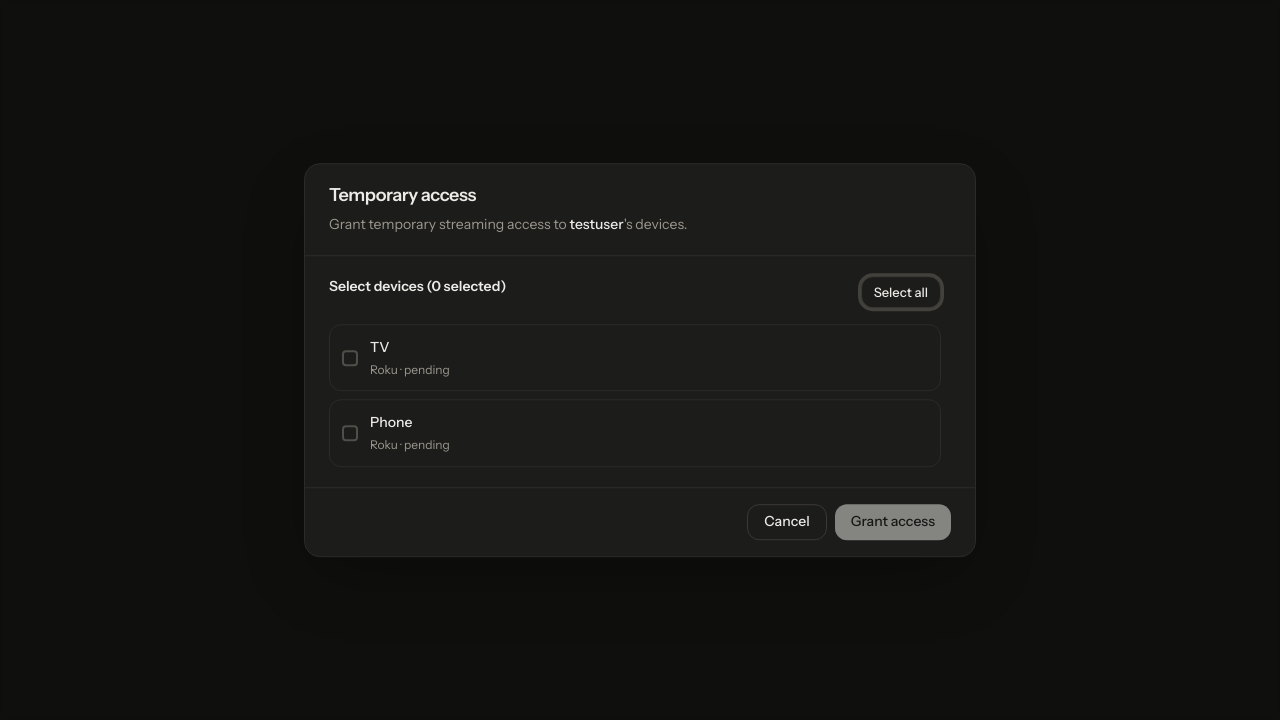
Test: TemporaryAccessModal › device selection › selects and deselects everything
The image size is (1280, 720).
Click the button "Select all": (901, 292) x1=861 y1=276 x2=941 y2=308
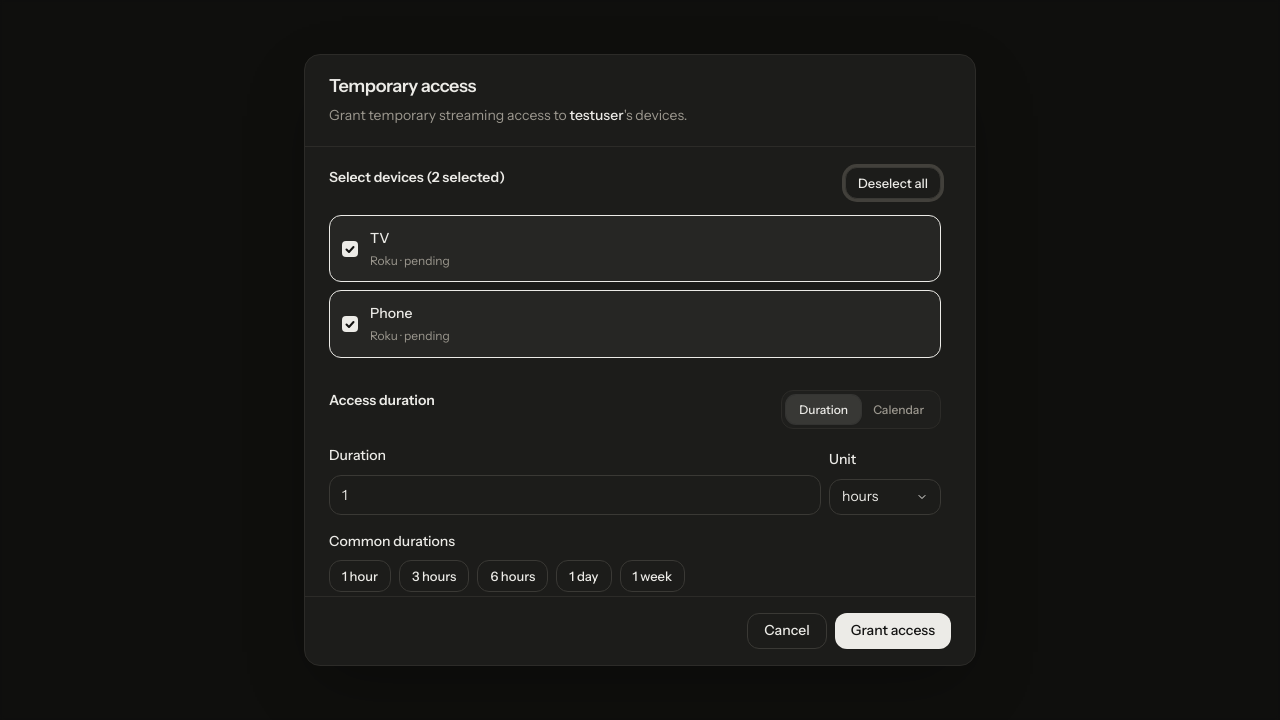
expect the heading "Select devices (2 selected)" is shown: met, box x1=329 y1=167 x2=505 y2=189
Click the button "Deselect all": (893, 183) x1=845 y1=167 x2=941 y2=199
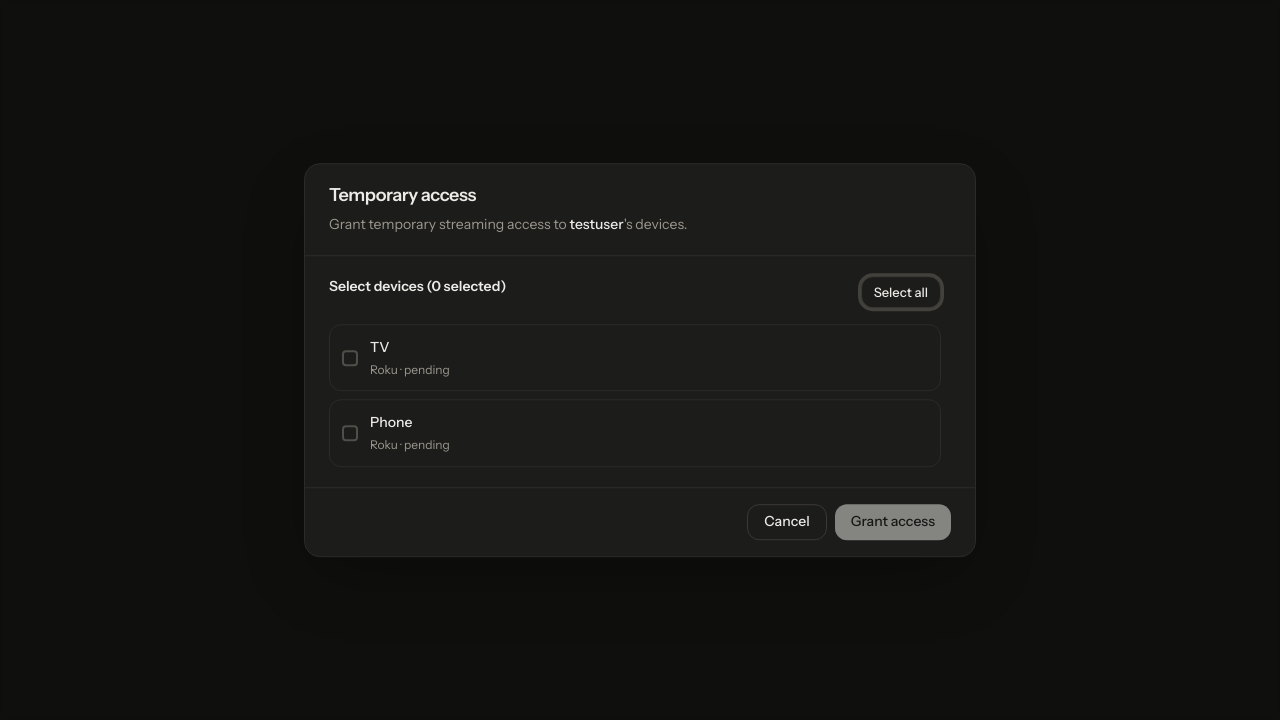
expect the heading "Select devices (0 selected)" is shown: met, box x1=329 y1=276 x2=506 y2=298
